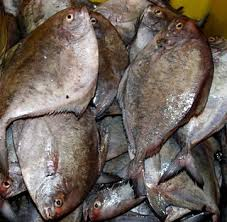Ikan Bawal: (120, 11, 211, 173), (2, 7, 103, 140)
